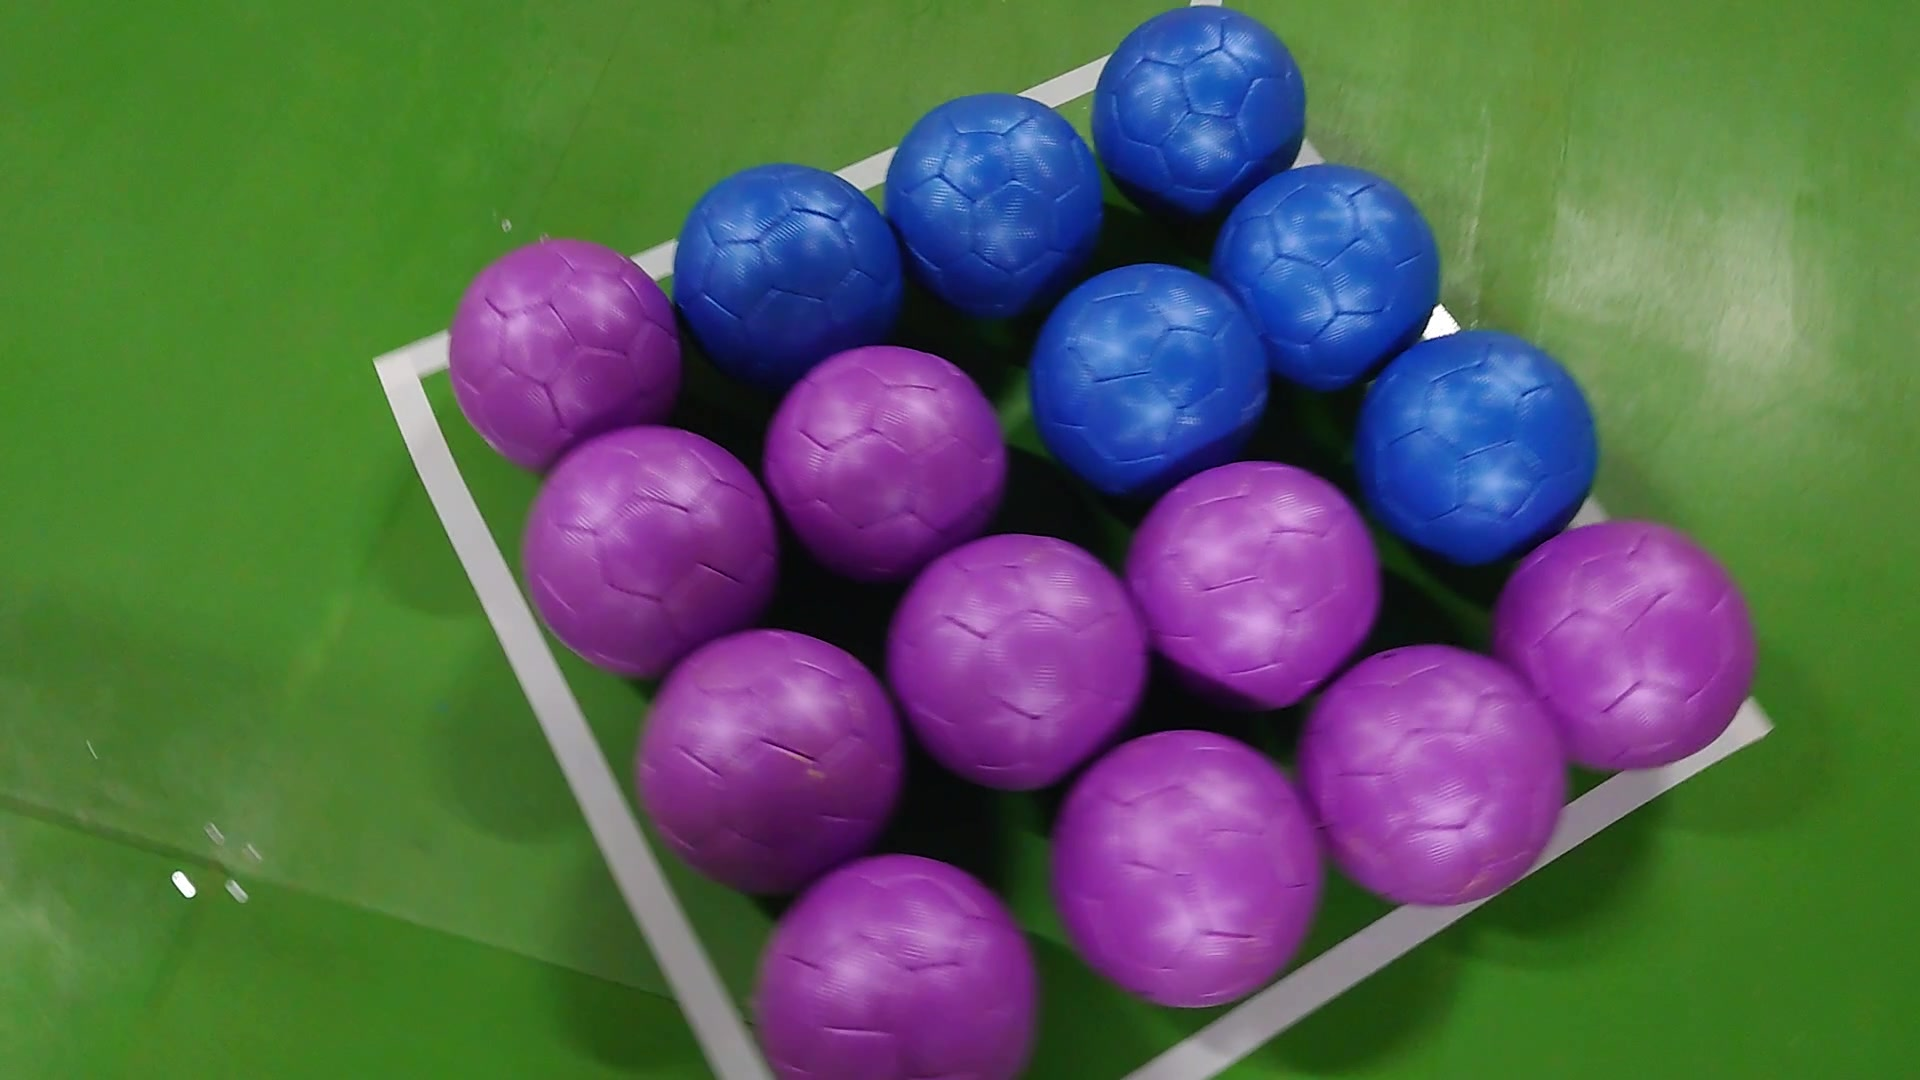blue: (1026, 258, 1274, 493), (1365, 323, 1600, 564), (666, 157, 914, 382), (1215, 164, 1443, 385), (882, 91, 1106, 307), (1091, 3, 1312, 219)
purple: (1051, 725, 1325, 1013), (1303, 640, 1571, 907), (885, 529, 1150, 790), (640, 630, 898, 894), (1489, 520, 1754, 770), (520, 425, 781, 670), (1130, 458, 1378, 712), (754, 856, 1035, 1080), (761, 343, 1006, 564), (451, 232, 673, 477)
